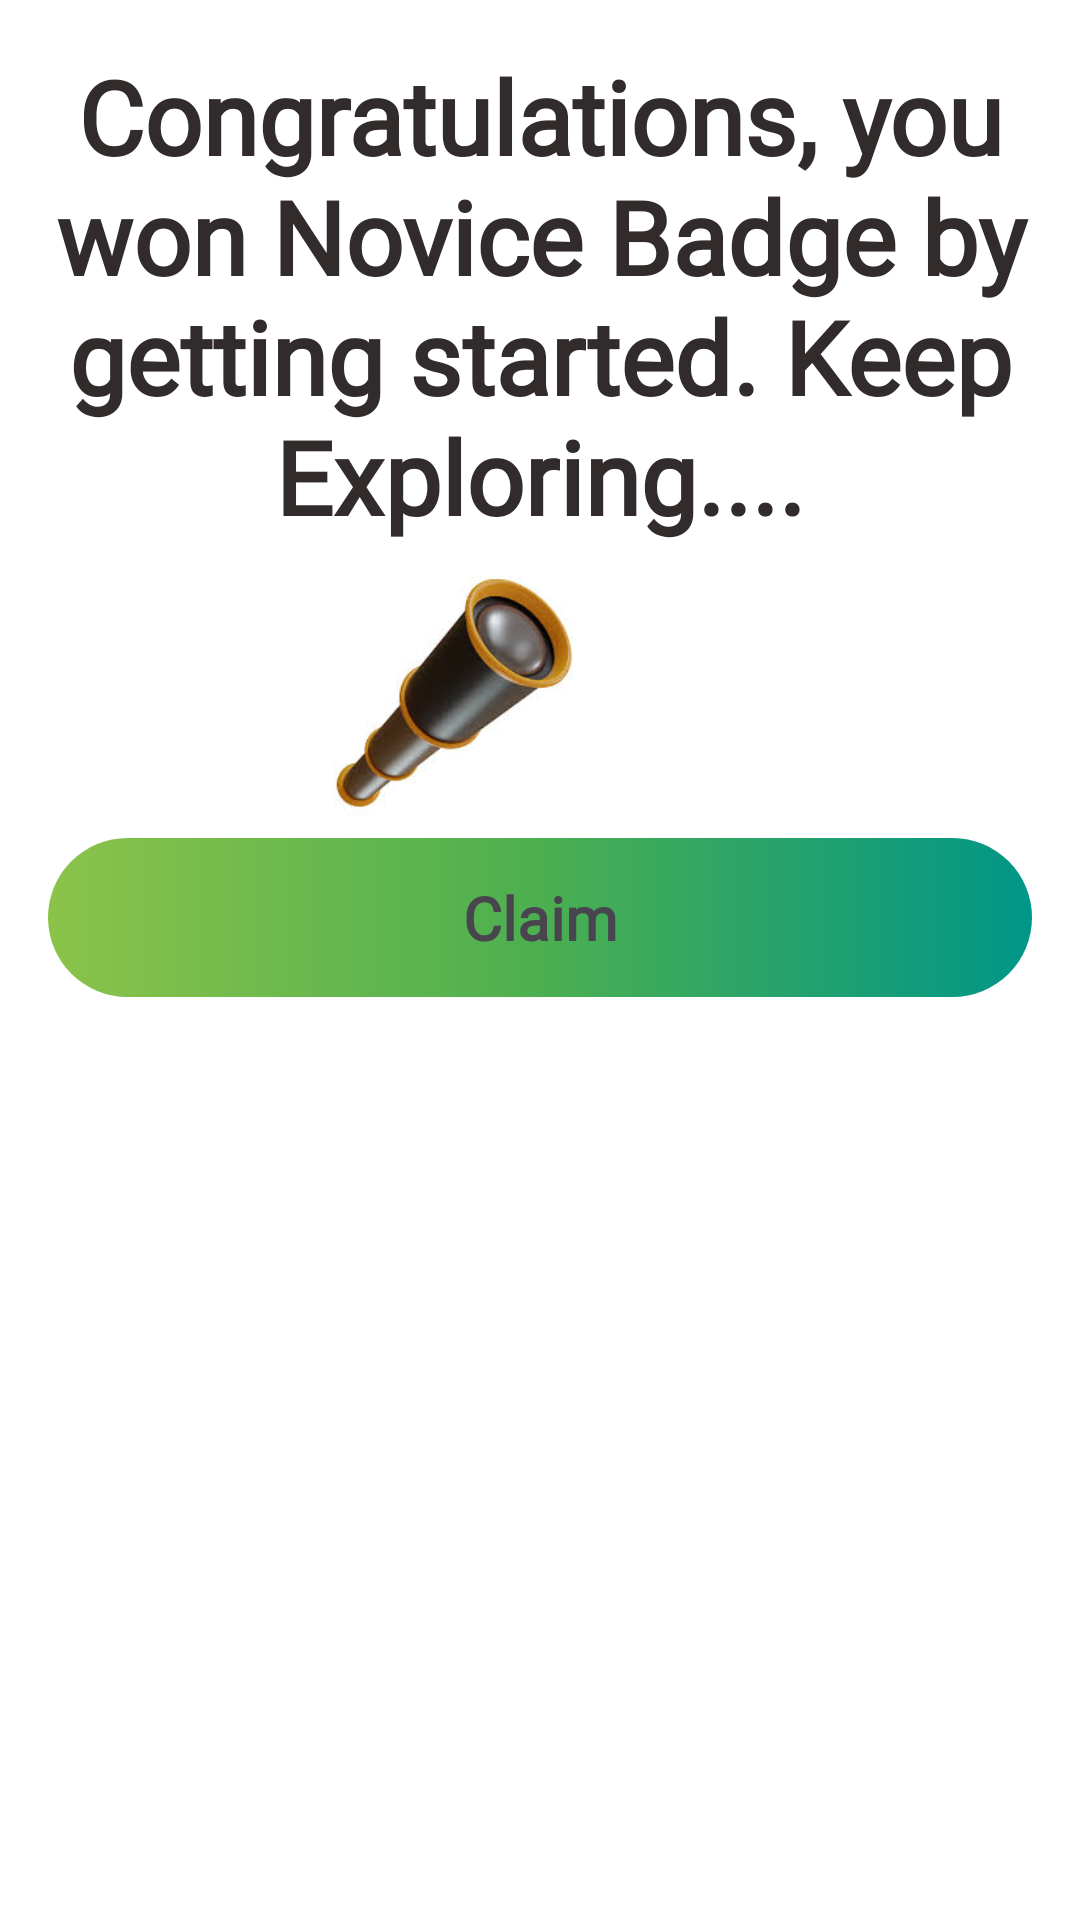

Icon click points for this 1080x1920 phone screenshot, format [x,y]:
telescope: [454,692]
